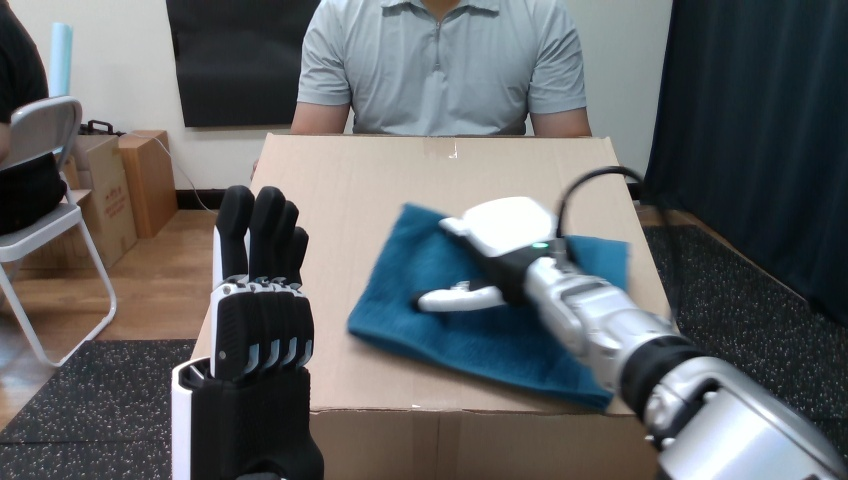left robot hand: (172, 186, 323, 478), (675, 227, 847, 459)
